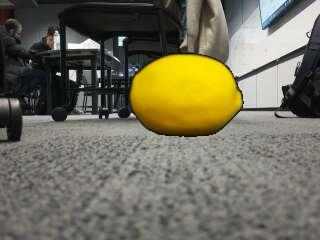lemon: (131, 55, 243, 137)
